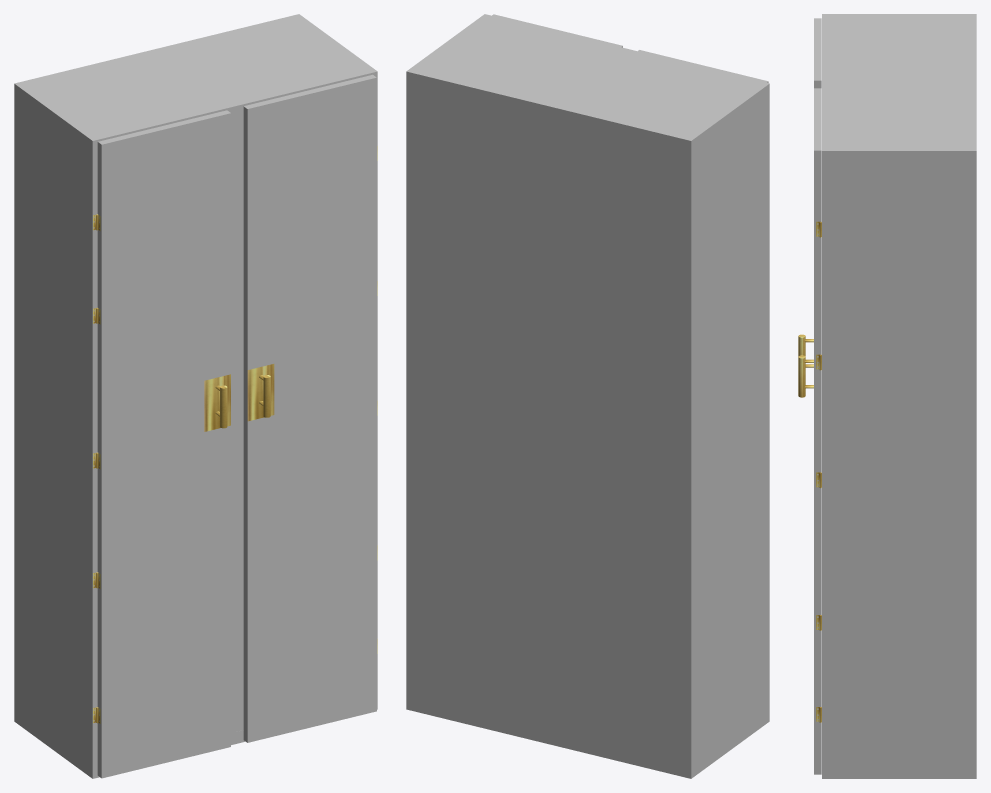
Rendered from cupboard.fbx.
3 views of the same model, side by side, from view 1: azimuth 30°, elevation 25°; view 2: azimuth 150°, elevation 25°; view 3: azimuth 270°, elevation 25° (orthographic).
Visible parts, largest first — view 1: polySurface15, polySurface14, pCube1; view 2: pCube1; view 3: pCube1, polySurface15, polySurface14, polySurface11.
Part boxes in pixels (box(x1,y1,x2,y2)): polySurface15: box(243, 74, 376, 742); polySurface14: box(97, 110, 230, 778); pCube1: box(14, 14, 377, 778); pCube1: box(406, 14, 769, 778); pCube1: box(822, 14, 976, 778); polySurface15: box(798, 88, 821, 774); polySurface14: box(798, 18, 821, 367); polySurface11: box(816, 221, 821, 722).
Size of what is drawn, in the model's own units: 7.22 by 15.45 by 3.97.
